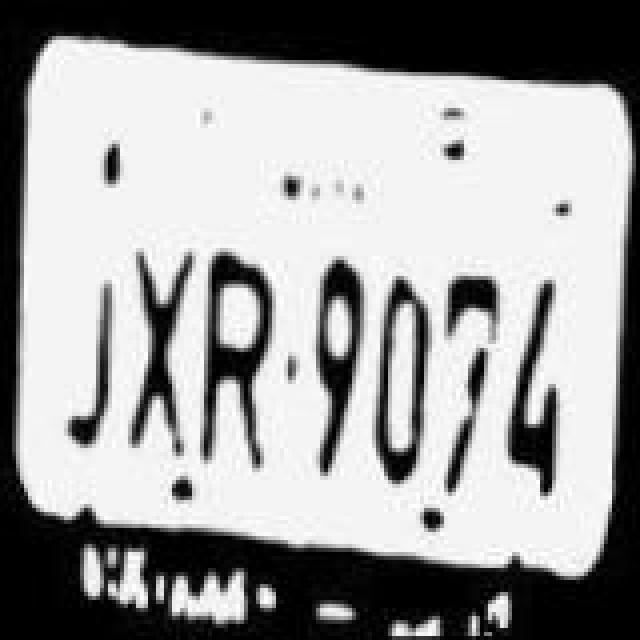4: (504, 270, 584, 506)
7: (430, 252, 506, 500)
9: (302, 246, 378, 486)
J: (54, 232, 122, 472)
O: (366, 268, 434, 492)
R: (190, 240, 282, 488)
X: (118, 240, 202, 468)
